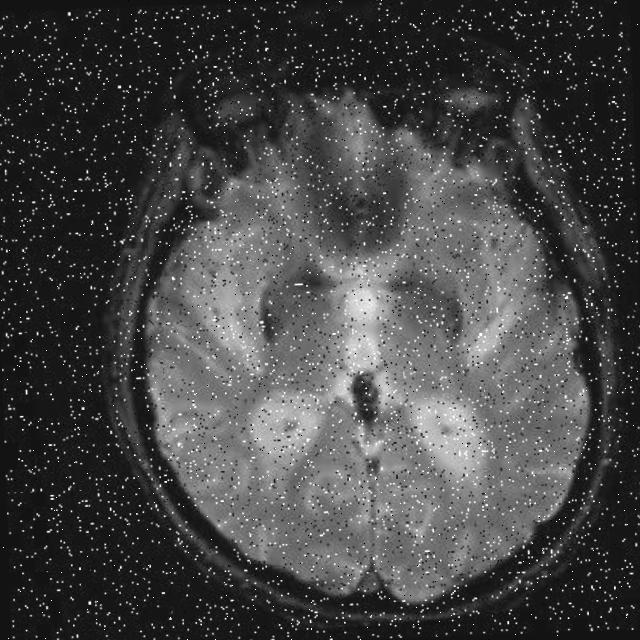CN: (300, 136, 432, 276), (222, 366, 324, 494), (231, 248, 309, 344), (386, 271, 476, 346), (405, 390, 476, 472)
